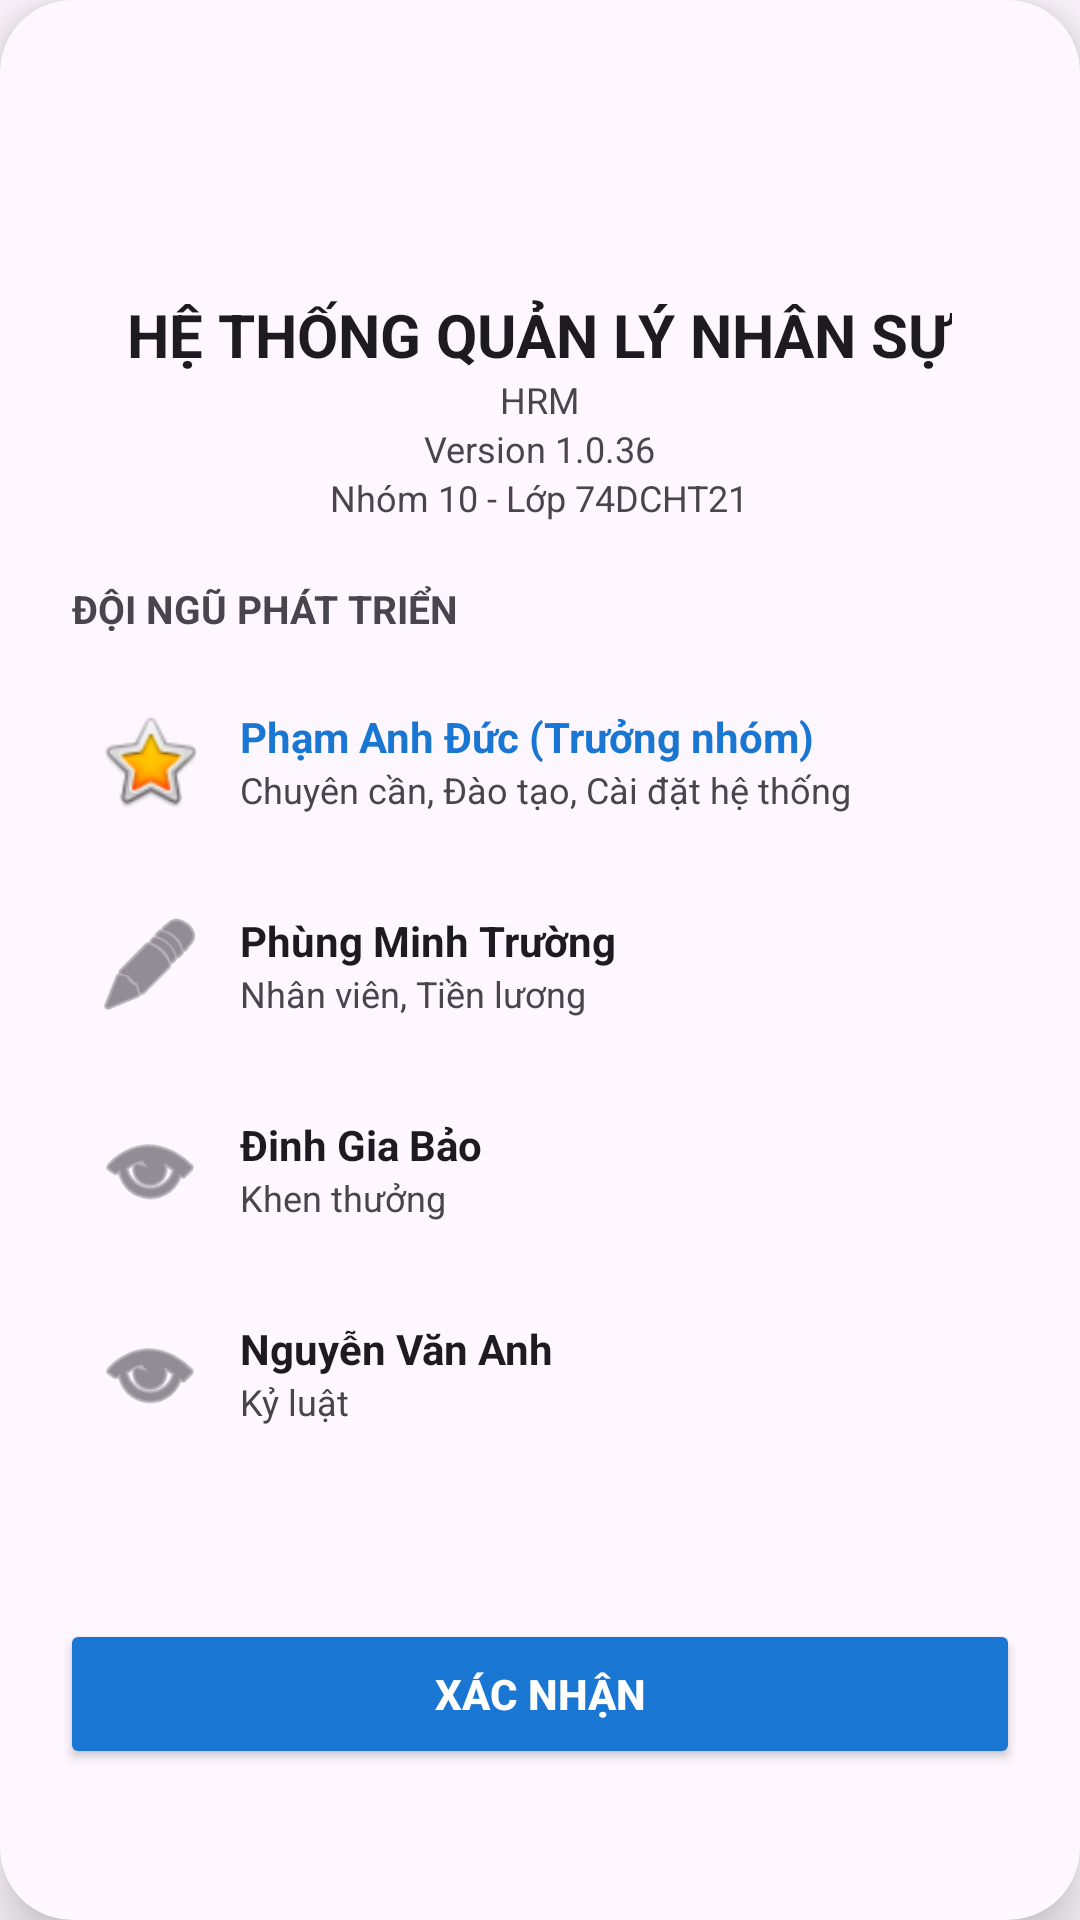

Icons on this 1080w x 1920h Android screen, each with the point to tap as (x,y):
edit: (149,964)
star on: (151,762)
view: (150,1171), (150,1375)
